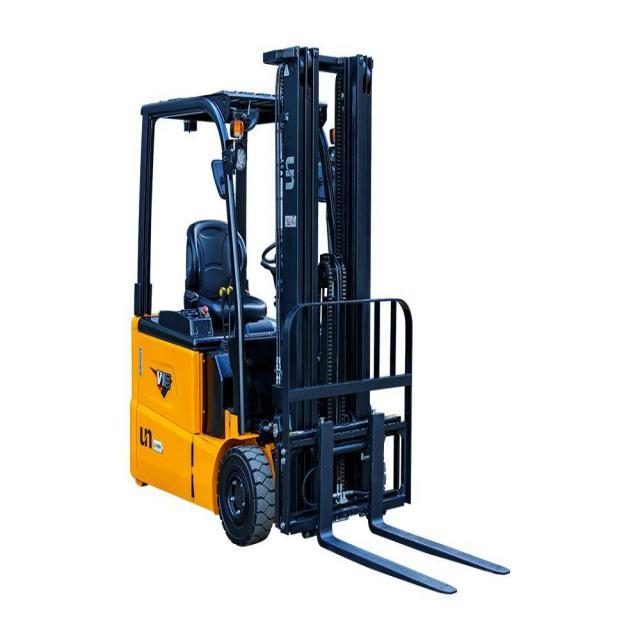forklift: (112, 32, 433, 560)
